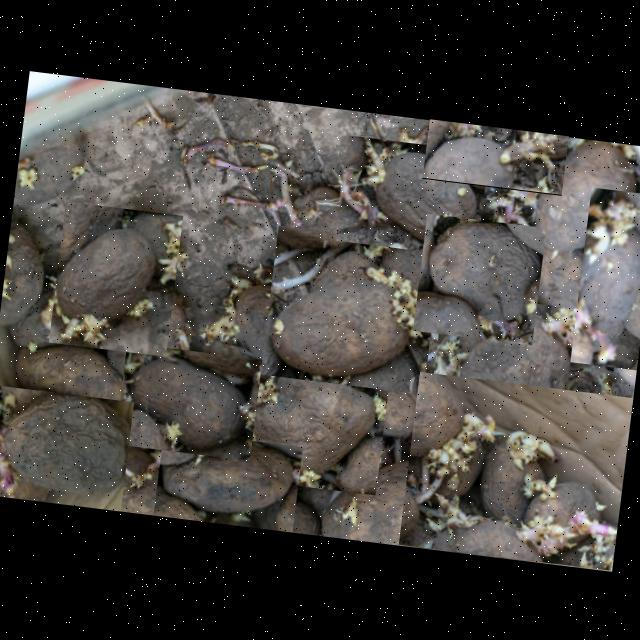Sprouted potato: (397, 370, 633, 570), (259, 224, 440, 393), (426, 290, 586, 436), (225, 356, 389, 494), (47, 200, 182, 355), (334, 134, 488, 256), (412, 212, 545, 344), (114, 342, 260, 459), (0, 383, 132, 510), (311, 448, 468, 552), (514, 130, 640, 256), (152, 429, 302, 531), (569, 186, 640, 369), (422, 118, 568, 194), (102, 289, 210, 389), (333, 362, 437, 448)
